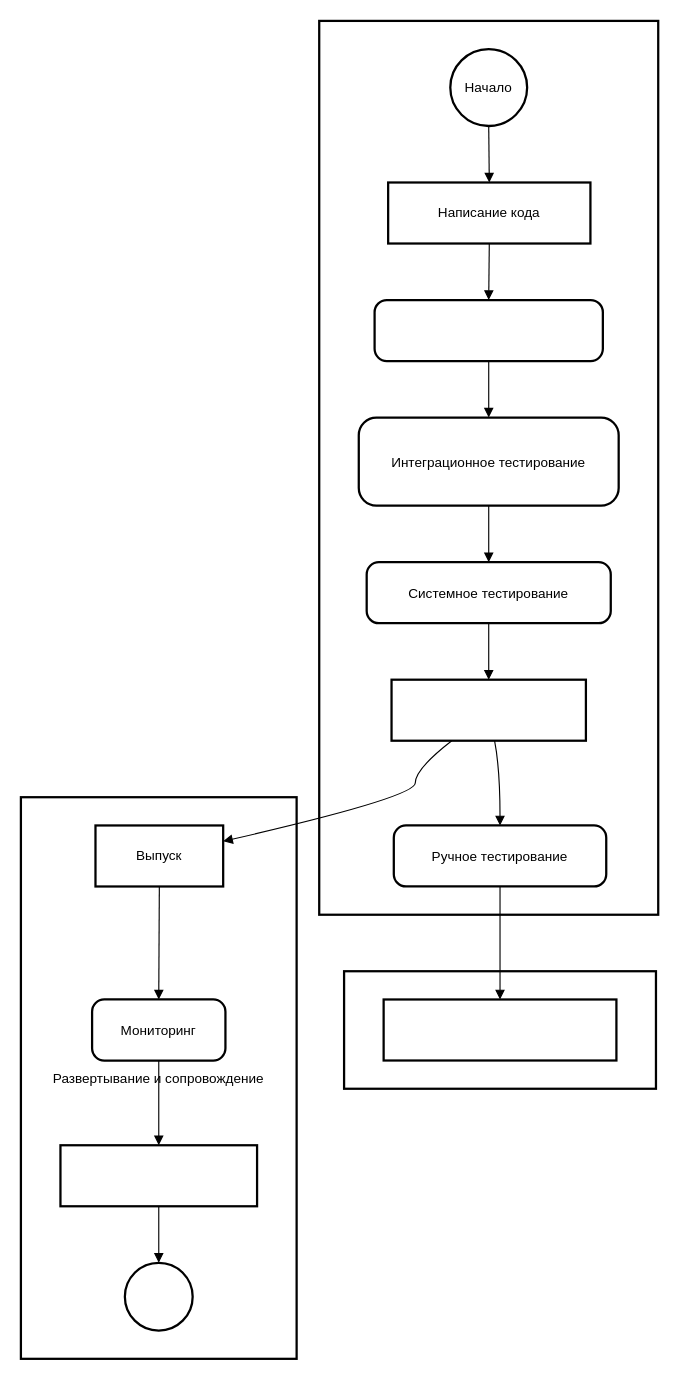
Image size: 678x1379. Some labels were removed from this diagram. The shapes that lost their labels are listed below. From the top down, each one's box as (x1, y1, x2, y2) in pixels, then its label:
(373, 298, 603, 362): Тестирование модулей
(390, 678, 586, 741): Развертывание
(382, 998, 617, 1061): Анализ результатов
(59, 1144, 258, 1207): Обратная связь
(123, 1261, 193, 1331): Конец
